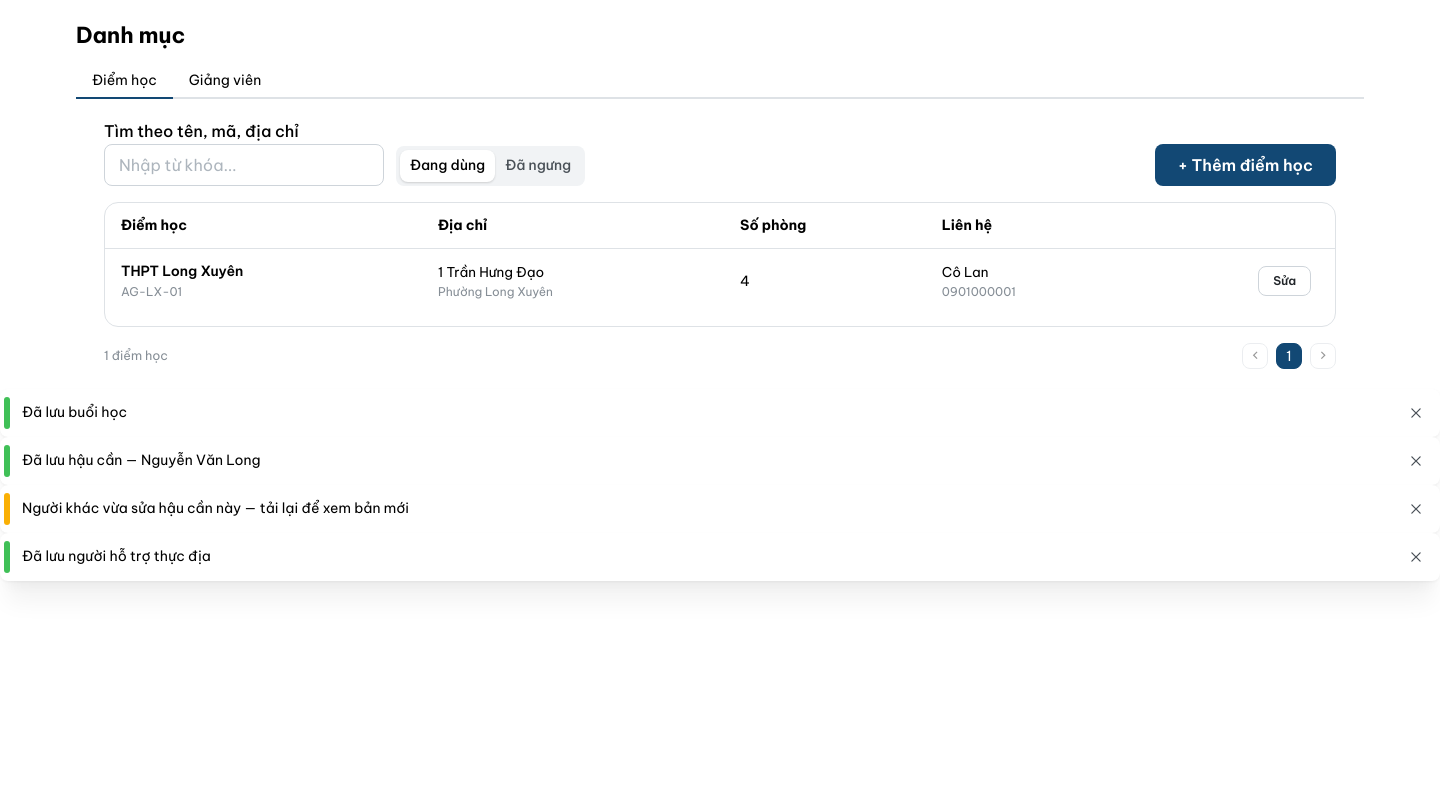
Test: Danh mục của người hỗ trợ GV › điểm học + giảng viên: tạo/sửa được, KHÔNG có nút Ngưng
The width and height of the screenshot is (1440, 810).
Expected: the text "THPT Long Xuyên" is shown, 121,262 -> 243,280
Expected: the button "+ Thêm điểm học" is shown, 1155,144 -> 1336,186
Click the tab "Giảng viên": (225, 81) 173,63 -> 277,99
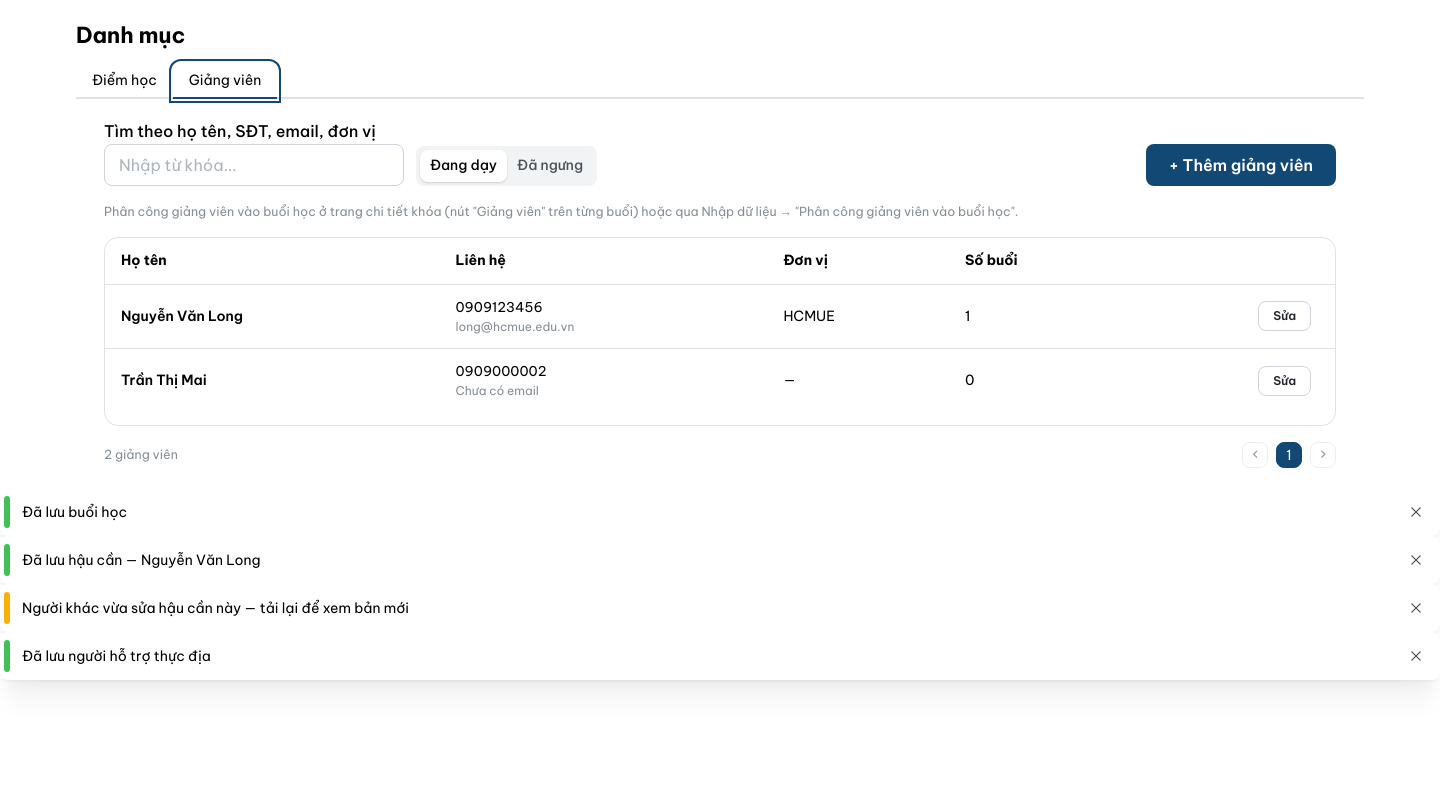
Now the text "Nguyễn Văn Long" is shown, box 121,306 -> 243,327
